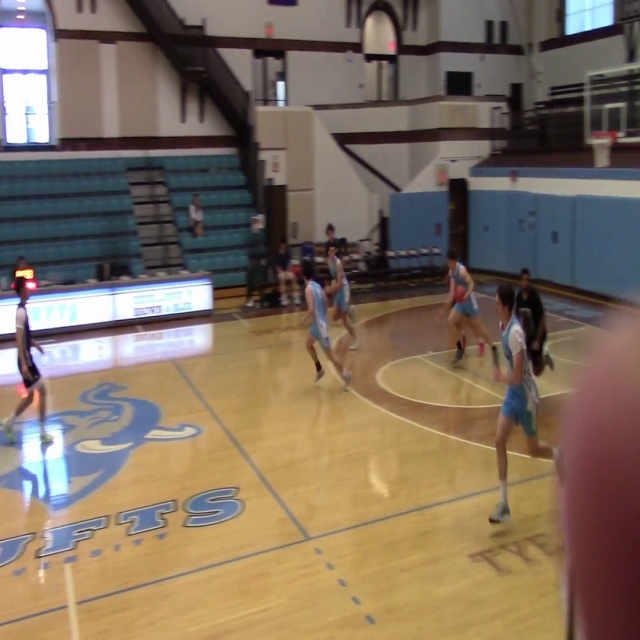Basketball: (16, 382, 29, 398), (25, 278, 38, 291)
